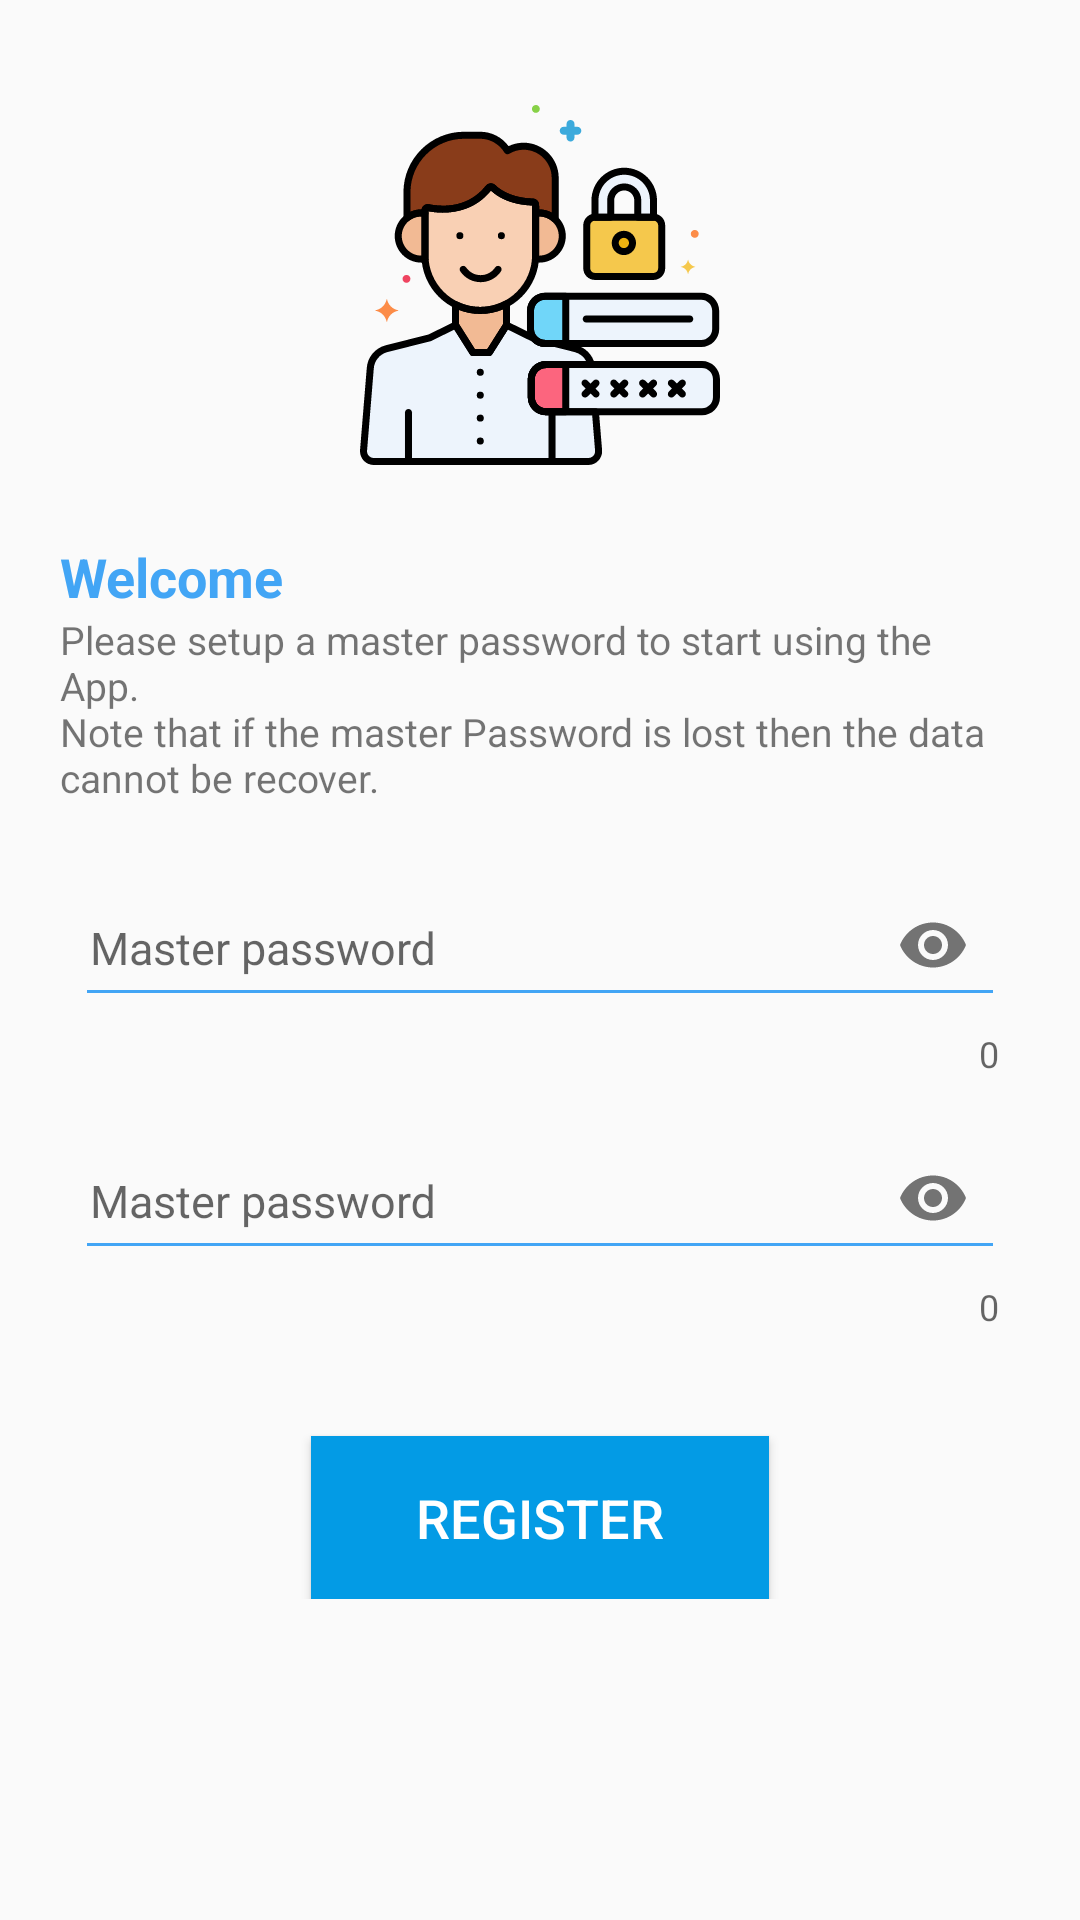

Locate icon controls on the screen. Image size 1080 x 1920, boxes as (x1, y1, x2, y2).
privacy: (360, 105, 720, 465)
